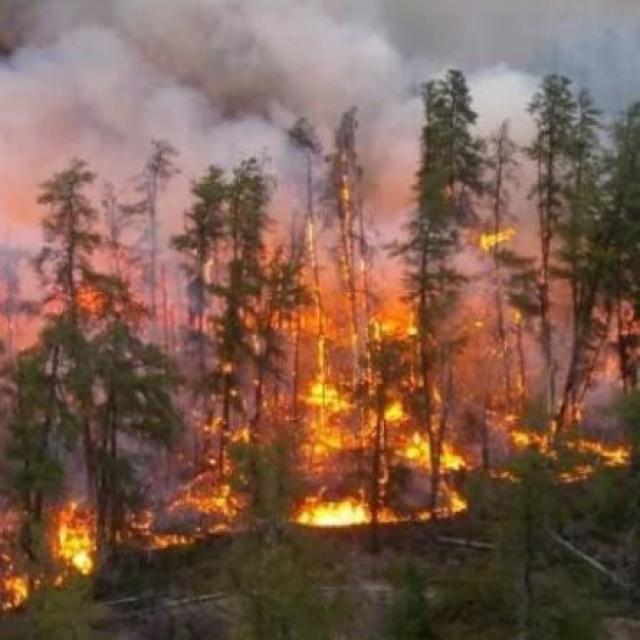Fire: (16, 497, 131, 590), (296, 372, 374, 484), (177, 460, 257, 544), (256, 296, 368, 346), (396, 420, 477, 482), (298, 488, 386, 541), (60, 275, 127, 320), (202, 406, 256, 456), (480, 420, 557, 455), (374, 305, 426, 352), (471, 210, 519, 258), (427, 480, 477, 525), (136, 523, 197, 559), (594, 424, 633, 472), (0, 560, 34, 614), (557, 459, 608, 490), (373, 398, 417, 423)
Smoke: (13, 12, 604, 244)
